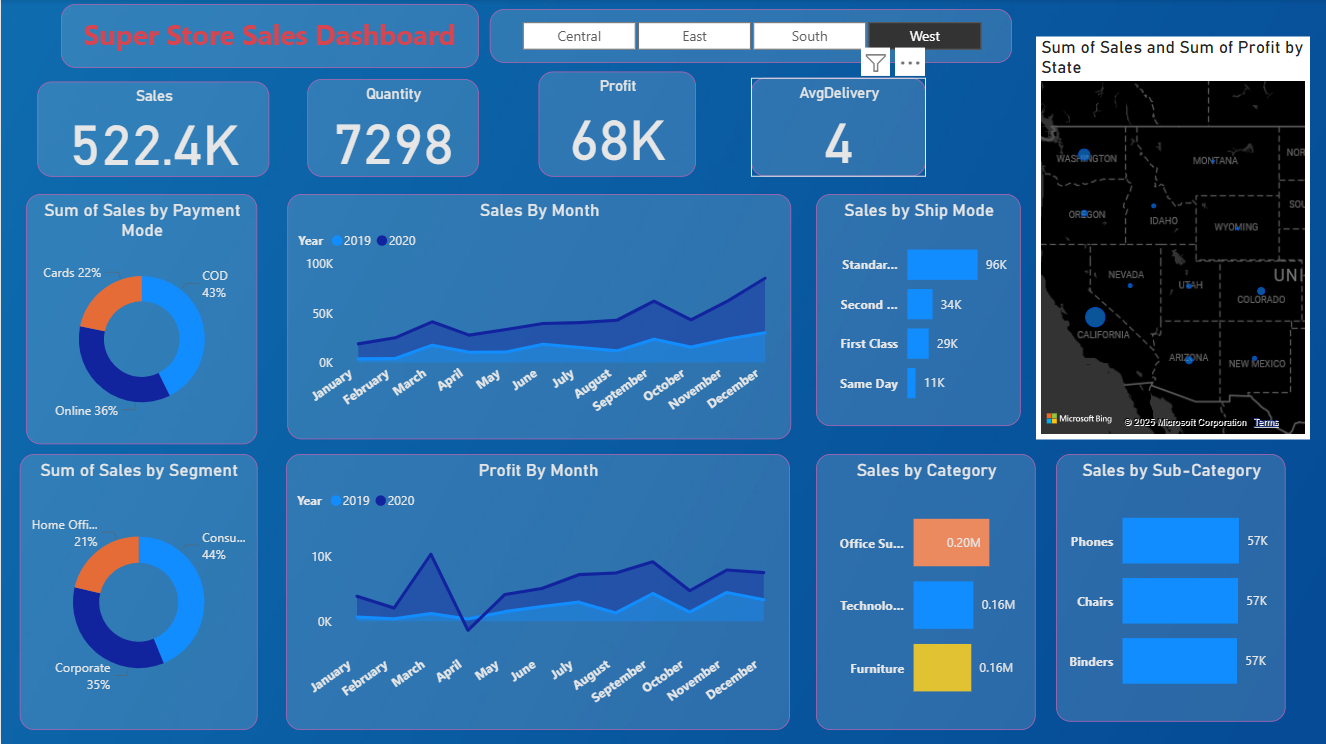

The page's visual inventory and layout, read from the dashboard file:
{"tool":"powerbi","page":{"name":"Page 1","canvas":[1280,720],"ordinal":0},"visuals":[{"type":"clusteredBarChart","title":"Sales by Category","fields":{"Category":["SuperStore_Sales_Dataset.Category"],"Y":["Sum(SuperStore_Sales_Dataset.Sales)"]},"box":[786.6,439.1,212.3,266.6],"z":0},{"type":"clusteredBarChart","title":"Sales by Sub-Category","fields":{"Category":["SuperStore_Sales_Dataset.Sub-Category"],"Y":["Sum(SuperStore_Sales_Dataset.Sales)"]},"box":[1018.2,439.1,222,258.2],"z":1000},{"type":"stackedAreaChart","title":" Sales By Month","fields":{"Y":["Sum(SuperStore_Sales_Dataset.Sales)"],"Category":["SuperStore_Sales_Dataset.Order Date.Variation.Date Hierarchy.Month","SuperStore_Sales_Dataset.Order Date.Variation.Date Hierarchy.Day"],"Series":["SuperStore_Sales_Dataset.Order Date.Variation.Date Hierarchy.Year"]},"box":[276.3,188.2,486.2,236.5],"z":2000},{"type":"stackedAreaChart","title":"Profit By Month","fields":{"Category":["SuperStore_Sales_Dataset.Order Date.Variation.Date Hierarchy.Month","SuperStore_Sales_Dataset.Order Date.Variation.Date Hierarchy.Day"],"Series":["SuperStore_Sales_Dataset.Order Date.Variation.Date Hierarchy.Year"],"Y":["Sum(SuperStore_Sales_Dataset.Profit)"]},"box":[275.1,439.1,486.2,266.6],"z":3000},{"type":"clusteredBarChart","title":"Sales by Ship Mode","fields":{"Category":["SuperStore_Sales_Dataset.Ship Mode"],"Y":["Sum(SuperStore_Sales_Dataset.Sales)"]},"box":[786.6,188.2,197.9,224.4],"z":4000},{"type":"map","title":"Sum of Sales and Sum of Profit by State","fields":{"Category":["SuperStore_Sales_Dataset.State"],"Size":["Sum(SuperStore_Sales_Dataset.Row ID+O6G3A1:R6)"]},"box":[998.9,36.2,264.2,388.5],"z":5000},{"type":"donutChart","fields":{"Category":["SuperStore_Sales_Dataset.Segment"],"Y":["Sum(SuperStore_Sales_Dataset.Sales)"]},"box":[18.1,439.1,229.2,266.6],"z":6000},{"type":"donutChart","fields":{"Category":["SuperStore_Sales_Dataset.Payment Mode"],"Y":["Sum(SuperStore_Sales_Dataset.Sales)"]},"box":[24.1,188.2,223.2,241.3],"z":7000},{"type":"slicer","fields":{"Values":["SuperStore_Sales_Dataset.Region"]},"box":[471.7,9.7,504.3,51.9],"z":8000},{"type":"textbox","box":[57.9,4.8,403,61.5],"z":9000},{"type":"card","title":"Sales","fields":{"Values":["Sum(SuperStore_Sales_Dataset.Sales)"]},"box":[35,79.6,224.4,91.7],"z":10000},{"type":"card","title":"Quantity","fields":{"Values":["Sum(SuperStore_Sales_Dataset.Quantity)"]},"box":[295.6,77.2,165.3,94.1],"z":11000},{"type":"card","title":"Profit","fields":{"Values":["Sum(SuperStore_Sales_Dataset.Profit)"]},"box":[518.8,70,152,101.3],"z":12000},{"type":"card","title":"AvgDelivery","fields":{"Values":["Avg(SuperStore_Sales_Dataset.AvgDelivery)"]},"box":[723.9,76,168.9,95.3],"z":13000}]}

Visuals, with their boxes in screenshot pixels (x1, y1, x2, y2), scaled from the page's 1280x720 canvas onto the 1326x744 screenshot:
"Sales by Category" clusteredBarChart: (815,454,1035,729)
"Sales by Sub-Category" clusteredBarChart: (1055,454,1285,721)
" Sales By Month" stackedAreaChart: (286,194,790,439)
"Profit By Month" stackedAreaChart: (285,454,789,729)
"Sales by Ship Mode" clusteredBarChart: (815,194,1020,426)
"Sum of Sales and Sum of Profit by State" map: (1035,37,1308,439)
donutChart - SuperStore_Sales_Dataset.Segment x Sum(SuperStore_Sales_Dataset.Sales): (19,454,256,729)
donutChart - SuperStore_Sales_Dataset.Payment Mode x Sum(SuperStore_Sales_Dataset.Sales): (25,194,256,444)
slicer - SuperStore_Sales_Dataset.Region: (489,10,1011,64)
textbox: (60,5,477,69)
"Sales" card: (36,82,269,177)
"Quantity" card: (306,80,477,177)
"Profit" card: (537,72,695,177)
"AvgDelivery" card: (750,79,925,177)
